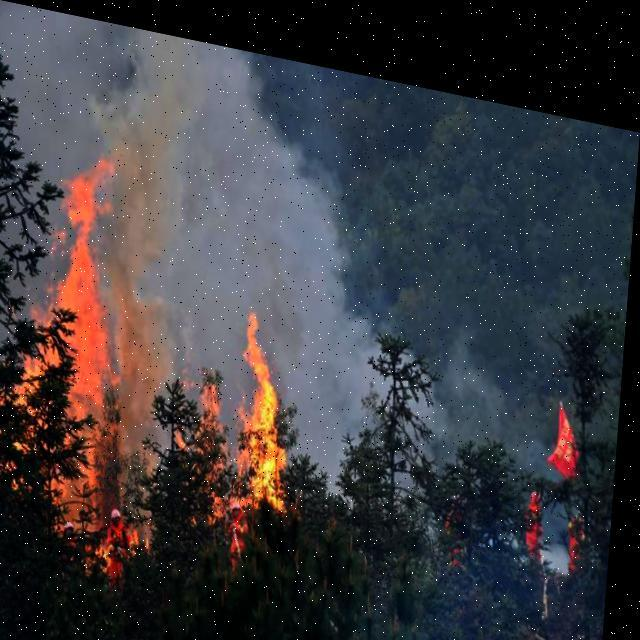Fire: (16, 157, 180, 563), (190, 284, 324, 527)
